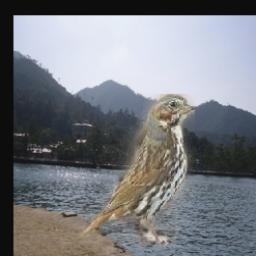Sparrow: (66, 94, 195, 247)
